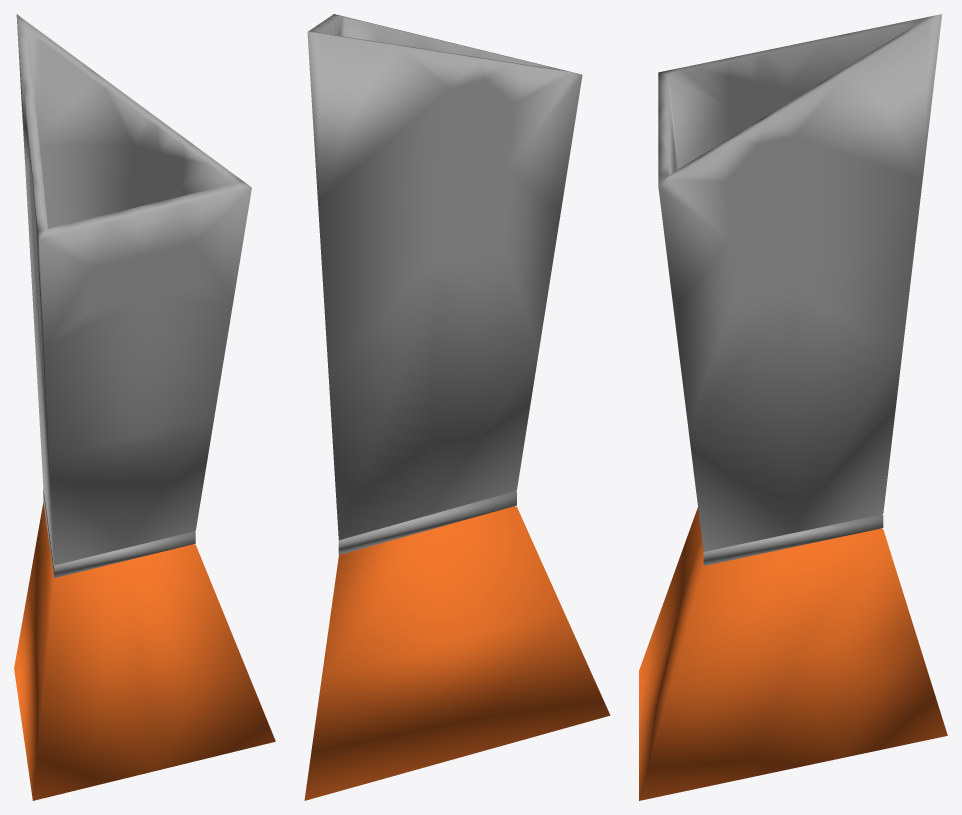
File: UEFA-Europa-League-D2.glb
The picture shows the model from 3 angles, left to right: view 1: azimuth 30°, elevation 25°; view 2: azimuth 150°, elevation 25°; view 3: azimuth 270°, elevation 25°; orthographic projection. The views are drawn at different scales.
Parts seen in each view (by area): view 1: top_2, bottom_2, middle_2; view 2: top_2, bottom_2, middle_2; view 3: top_2, bottom_2, middle_2.
Part boxes in pixels (<box>): top_2: <box>16,14,251,565</box>; bottom_2: <box>14,502,275,800</box>; middle_2: <box>43,489,195,577</box>; top_2: <box>307,14,582,540</box>; bottom_2: <box>304,506,610,800</box>; middle_2: <box>338,491,516,554</box>; top_2: <box>658,14,942,551</box>; bottom_2: <box>639,507,947,800</box>; middle_2: <box>703,514,883,565</box>.
Bounding box in the file's own units: 0.076 × 0.1961 × 0.076.
